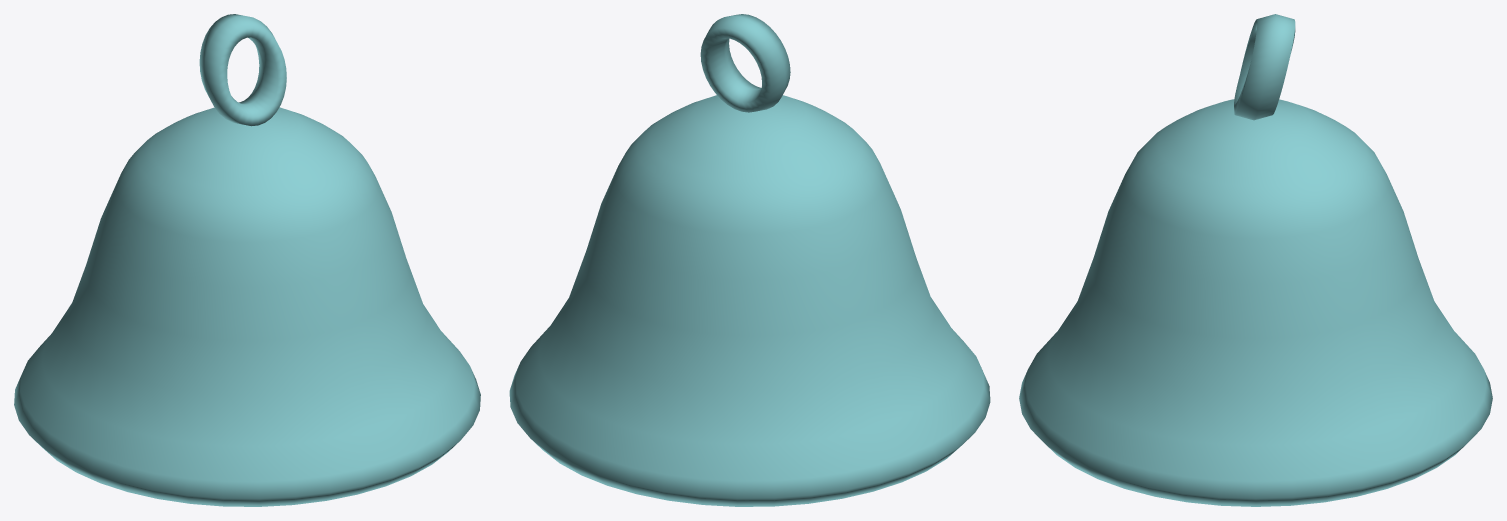
Rendered from hat_sauna_duck.glb.
3 views of the same model, side by side, from view 1: azimuth 30°, elevation 25°; view 2: azimuth 150°, elevation 25°; view 3: azimuth 270°, elevation 25° (orthographic). The views are drawn at different scales.
Visible parts, largest first — view 1: hat_sauna_duck; view 2: hat_sauna_duck; view 3: hat_sauna_duck.
Boxes of the visible parts, x1=… form: hat_sauna_duck: x1=14, y1=14, x2=480, y2=506; hat_sauna_duck: x1=509, y1=14, x2=990, y2=506; hat_sauna_duck: x1=1019, y1=14, x2=1492, y2=506.
Bounding box in the file's own units: 0.1794 × 0.1652 × 0.1794.
